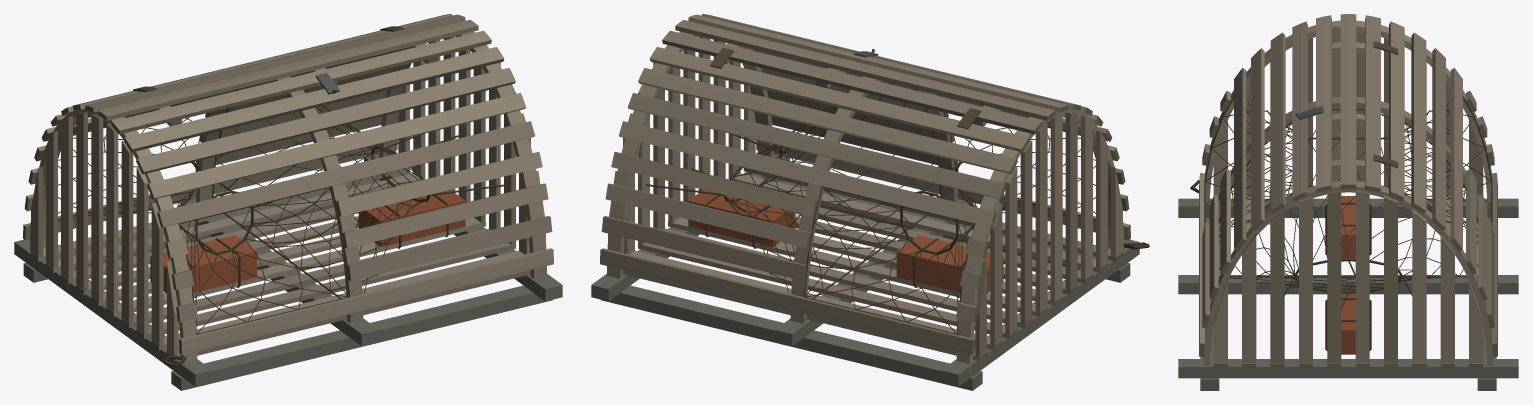
3 renders of one model, left to right at view 1: azimuth 30°, elevation 25°; view 2: azimuth 150°, elevation 25°; view 3: azimuth 270°, elevation 25°, orthographic. The views are drawn at different scales.
Visible parts, largest first — view 1: Runner_1, Side_lath_13_0, Side_lath_12_0, Side_lath_14_0, Side_lath_18_0, Side_lath_11_0, Door_lath_10_0, Door_lath_09_0, Side_lath_17_1, Side_lath_16_1, Side_lath_15_1, Door_lath_08_0 (+43 smaller); view 2: Runner_2, Side_lath_05_0, Side_lath_06_0, Side_lath_04_0, Side_lath_00_0, Side_lath_07_0, Door_lath_08_0, Door_lath_09_0, Side_lath_01_1, Side_lath_02_1, Side_lath_03_1, Door_lath_10_0 (+43 smaller); view 3: Cross_sill_3, Bent_bow_3, Cross_sill_2, Door_lath_09_0, Side_lath_06_0, Side_lath_12_0, Door_lath_10_0, Side_lath_11_0, Door_lath_08_0, Side_lath_07_0, End_2_upright_05, End_2_upright_06 (+37 smaller).
Boxes of the visible parts, x1,y1,x2,y2 form: Runner_1: [171, 285, 552, 390]; Side_lath_13_0: [147, 93, 526, 199]; Side_lath_12_0: [136, 68, 515, 174]; Side_lath_14_0: [157, 121, 535, 227]; Side_lath_18_0: [179, 248, 553, 354]; Side_lath_11_0: [124, 47, 504, 152]; Door_lath_10_0: [111, 30, 491, 134]; Door_lath_09_0: [98, 20, 478, 120]; Side_lath_17_1: [347, 216, 552, 280]; Side_lath_16_1: [342, 183, 548, 248]; Side_lath_15_1: [336, 152, 542, 216]; Door_lath_08_0: [85, 14, 465, 112]; Runner_2: [601, 285, 982, 390]; Side_lath_05_0: [627, 93, 1006, 199]; Side_lath_06_0: [638, 68, 1017, 174]; Side_lath_04_0: [618, 121, 996, 227]; Side_lath_00_0: [600, 248, 974, 354]; Side_lath_07_0: [649, 47, 1029, 152]; Door_lath_08_0: [662, 30, 1042, 134]; Door_lath_09_0: [675, 20, 1055, 120]; Side_lath_01_1: [601, 216, 806, 280]; Side_lath_02_1: [605, 183, 811, 248]; Side_lath_03_1: [611, 152, 817, 216]; Door_lath_10_0: [688, 14, 1068, 112]; Cross_sill_3: [1178, 359, 1518, 378]; Bent_bow_3: [1203, 181, 1493, 365]; Cross_sill_2: [1178, 275, 1518, 294]; Door_lath_09_0: [1340, 14, 1356, 188]; Side_lath_06_0: [1411, 32, 1426, 214]; Side_lath_12_0: [1270, 32, 1285, 214]; Door_lath_10_0: [1316, 15, 1331, 192]; Side_lath_11_0: [1292, 21, 1307, 201]; Door_lath_08_0: [1365, 15, 1380, 192]; Side_lath_07_0: [1389, 21, 1404, 201]; End_2_upright_05: [1327, 190, 1341, 363]; End_2_upright_06: [1355, 190, 1369, 363].
Bounding box in the file's own units: 0.853 × 0.459 × 0.6858.
